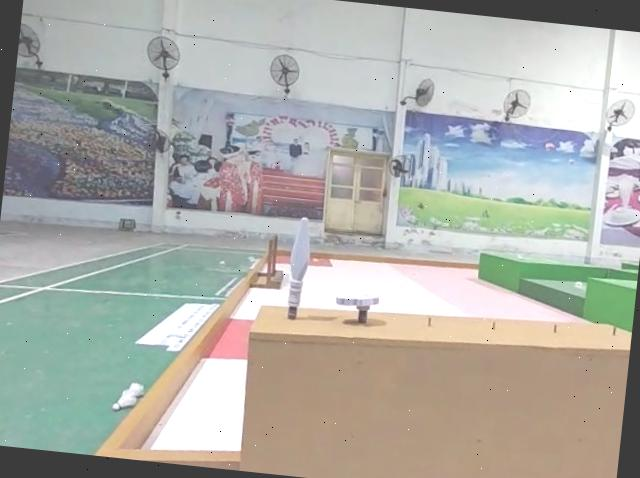Hand: (333, 288, 384, 326)
Sph: (282, 214, 317, 321)
